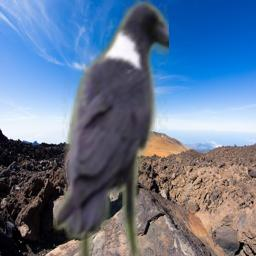Crow: (53, 0, 169, 256)
